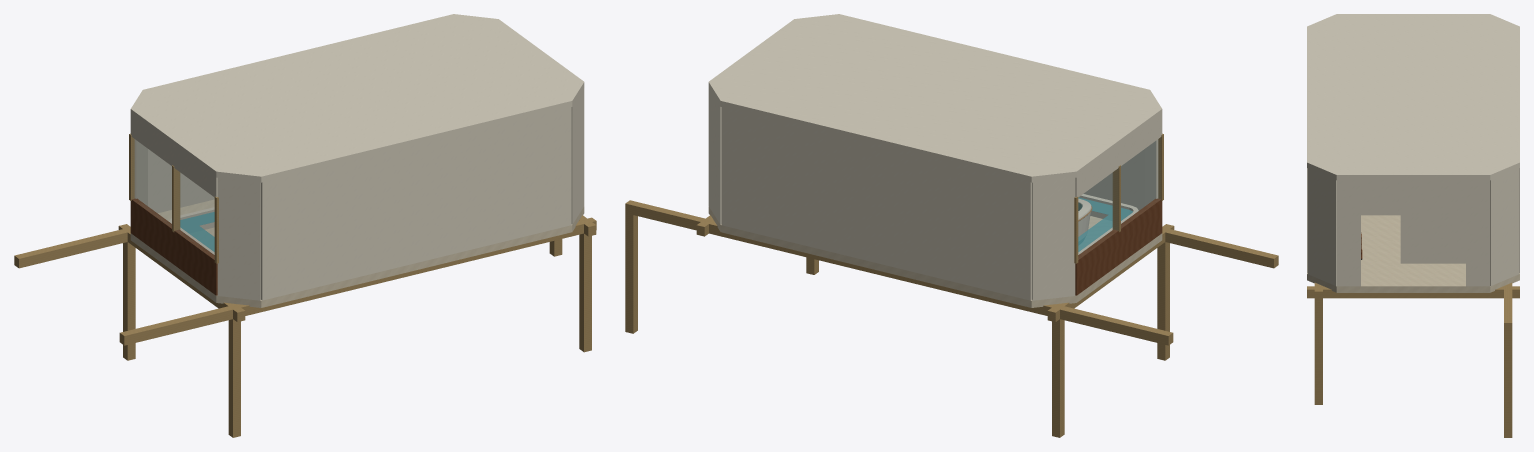
The model's file is D04_STARBOARD_FORWARD_HOME_919_r001.glb.
3 views of the same model, side by side, from view 1: azimuth 30°, elevation 25°; view 2: azimuth 150°, elevation 25°; view 3: azimuth 270°, elevation 25° (orthographic). The views are drawn at different scales.
Parts seen in each view (by area): view 1: D04SH919_Roof, D04SH919_Shell_3, D04SH919_Shell_4, D04SH919_GardenGlass, D04SH919_Floor, D04SH919_FloorCross_1, D04SH919_GardenDado, D04SH919_Shell_7, D04SH919_GardenHead, D04SH919_FloorCross_0, D04SH919_Shell_2, D04SH919_Pier_16 (+6 smaller); view 2: D04SH919_Roof, D04SH919_Shell_7, D04SH919_Shell_6, D04SH919_FloorCross_0, D04SH919_GardenGlass, D04SH919_Floor, D04SH919_GardenDado, D04SH919_GardenHead, D04SH919_Pier_13, D04SH919_FloorCross_1, D04SH919_Shell_3, D04SH919_Shell_0 (+5 smaller); view 3: D04SH919_Roof, D04SH919_Floor, D04SH919_EntryHeader, D04SH919_BathDogleg, D04SH919_Shell_0, D04SH919_Shell_2, D04SH919_EntryWall_0, D04SH919_EntryWall_1, D04SH919_Long_-41.650000000000006, D04SH919_Pier_13, D04SH919_Pier_14, D04SH919_FloorCross_0.
Part boxes in pixels (x1=…): D04SH919_Roof: x1=130, y1=14, x2=584, y2=182; D04SH919_Shell_3: x1=261, y1=107, x2=571, y2=300; D04SH919_Shell_4: x1=217, y1=177, x2=260, y2=300; D04SH919_GardenGlass: x1=132, y1=141, x2=214, y2=258; D04SH919_Floor: x1=130, y1=199, x2=584, y2=307; D04SH919_FloorCross_1: x1=119, y1=217, x2=596, y2=345; D04SH919_GardenDado: x1=130, y1=198, x2=217, y2=295; D04SH919_Shell_7: x1=148, y1=149, x2=214, y2=213; D04SH919_GardenHead: x1=130, y1=115, x2=217, y2=197; D04SH919_FloorCross_0: x1=14, y1=229, x2=130, y2=268; D04SH919_Shell_2: x1=571, y1=89, x2=583, y2=224; D04SH919_Pier_16: x1=228, y1=306, x2=240, y2=437; D04SH919_Roof: x1=708, y1=14, x2=1162, y2=182; D04SH919_Shell_7: x1=721, y1=107, x2=1031, y2=300; D04SH919_Shell_6: x1=1032, y1=177, x2=1075, y2=300; D04SH919_FloorCross_0: x1=626, y1=200, x2=1173, y2=345; D04SH919_GardenGlass: x1=1078, y1=141, x2=1156, y2=256; D04SH919_Floor: x1=708, y1=206, x2=1162, y2=307; D04SH919_GardenDado: x1=1075, y1=198, x2=1162, y2=295; D04SH919_GardenHead: x1=1075, y1=115, x2=1162, y2=197; D04SH919_Pier_13: x1=625, y1=200, x2=637, y2=333; D04SH919_FloorCross_1: x1=1162, y1=229, x2=1278, y2=268; D04SH919_Shell_3: x1=1083, y1=149, x2=1144, y2=210; D04SH919_Shell_0: x1=709, y1=89, x2=721, y2=224; D04SH919_Roof: x1=1307, y1=14, x2=1519, y2=180; D04SH919_Floor: x1=1307, y1=215, x2=1519, y2=292; D04SH919_EntryHeader: x1=1361, y1=180, x2=1465, y2=215; D04SH919_BathDogleg: x1=1400, y1=215, x2=1465, y2=263; D04SH919_Shell_0: x1=1490, y1=168, x2=1518, y2=285; D04SH919_Shell_2: x1=1308, y1=168, x2=1336, y2=285; D04SH919_EntryWall_0: x1=1466, y1=180, x2=1490, y2=286; D04SH919_EntryWall_1: x1=1336, y1=180, x2=1360, y2=286; D04SH919_Long_-41.650000000000006: x1=1307, y1=286, x2=1519, y2=298; D04SH919_Pier_13: x1=1504, y1=320, x2=1512, y2=437; D04SH919_Pier_14: x1=1314, y1=286, x2=1322, y2=404; D04SH919_FloorCross_0: x1=1504, y1=282, x2=1512, y2=331.
Bounding box in the file's own units: 19.04 × 8.66 × 7.2.
40 materials, 21 textured.
